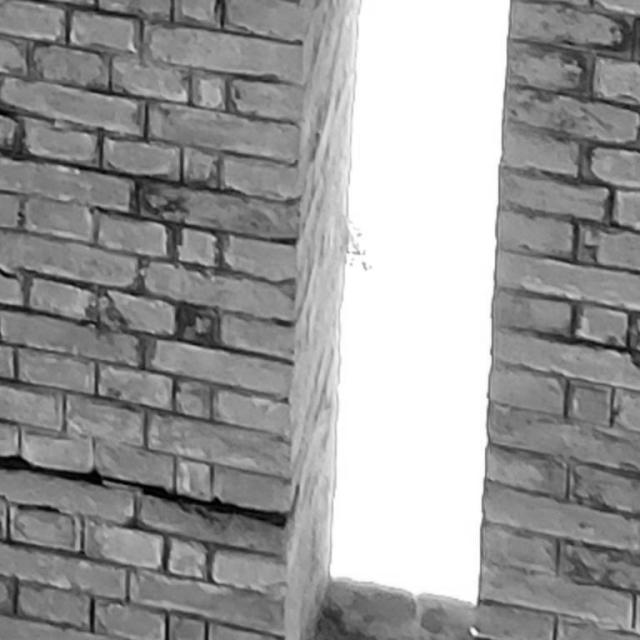crack: (1, 454, 300, 528)
